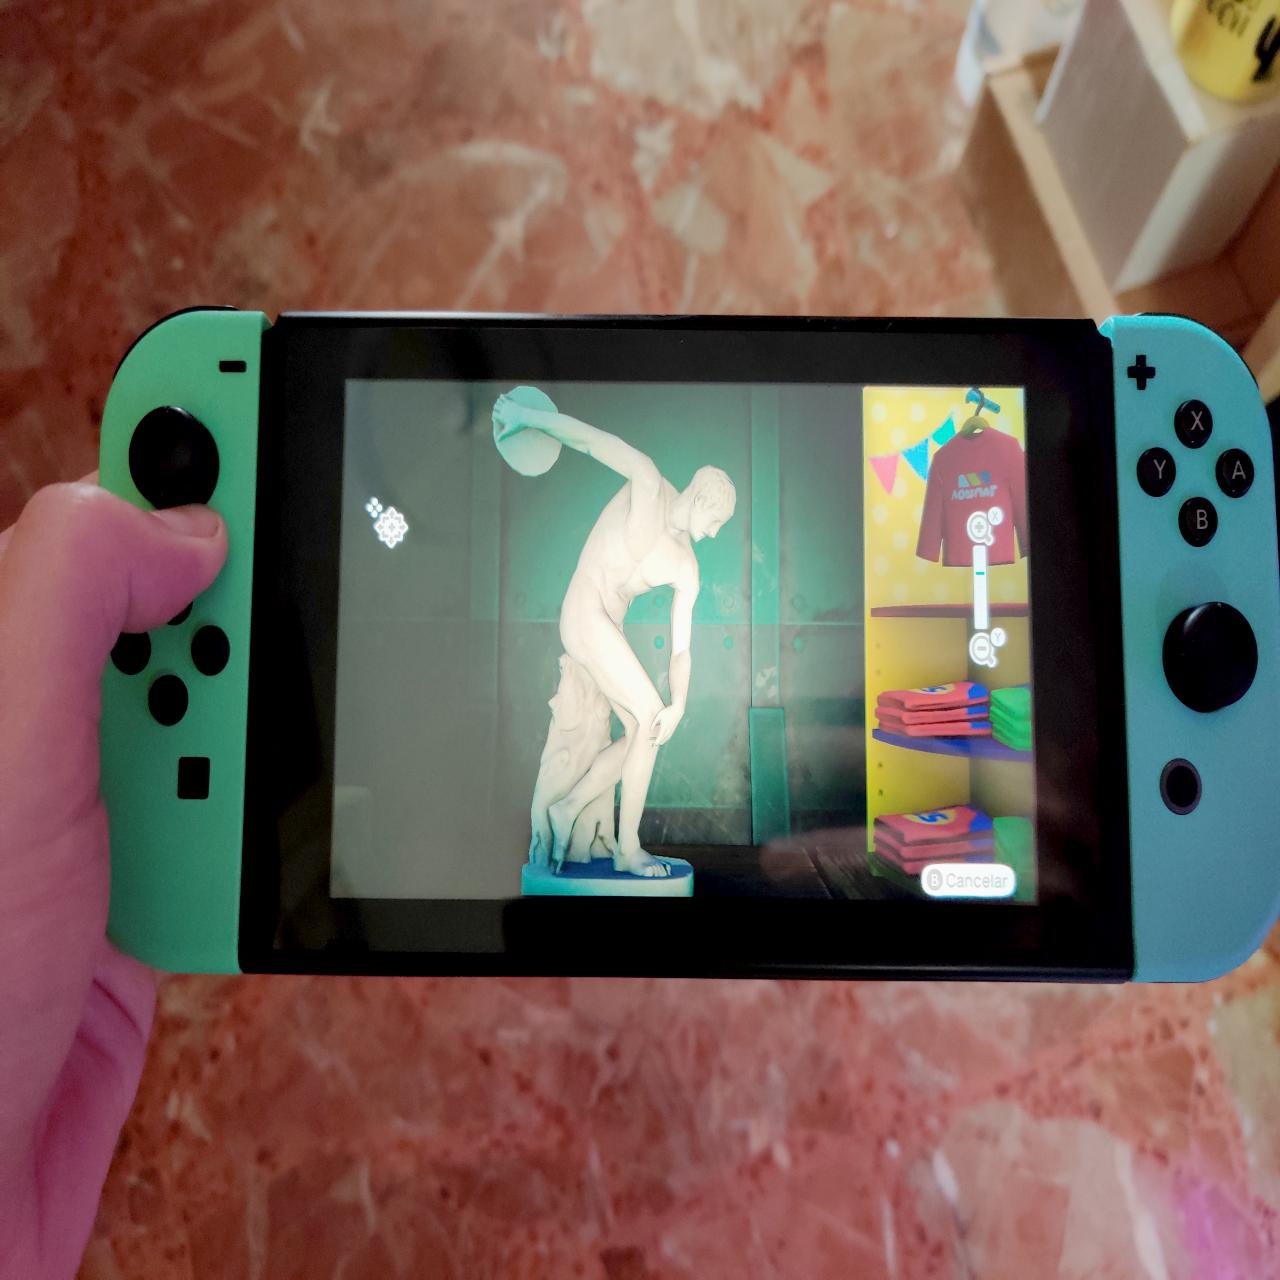Diskobolos: (479, 382, 743, 894)
